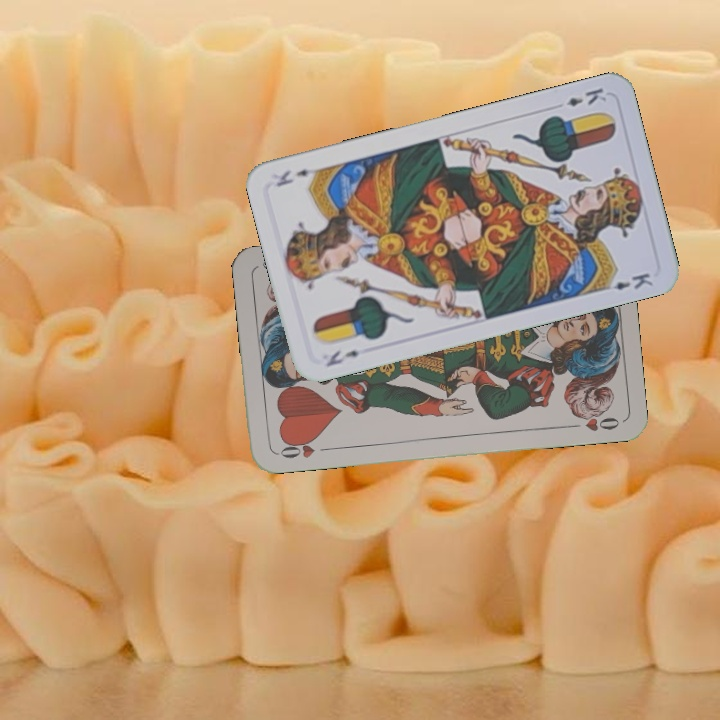EK: (562, 84, 609, 109), (322, 346, 362, 370)
HO: (274, 434, 333, 461)
